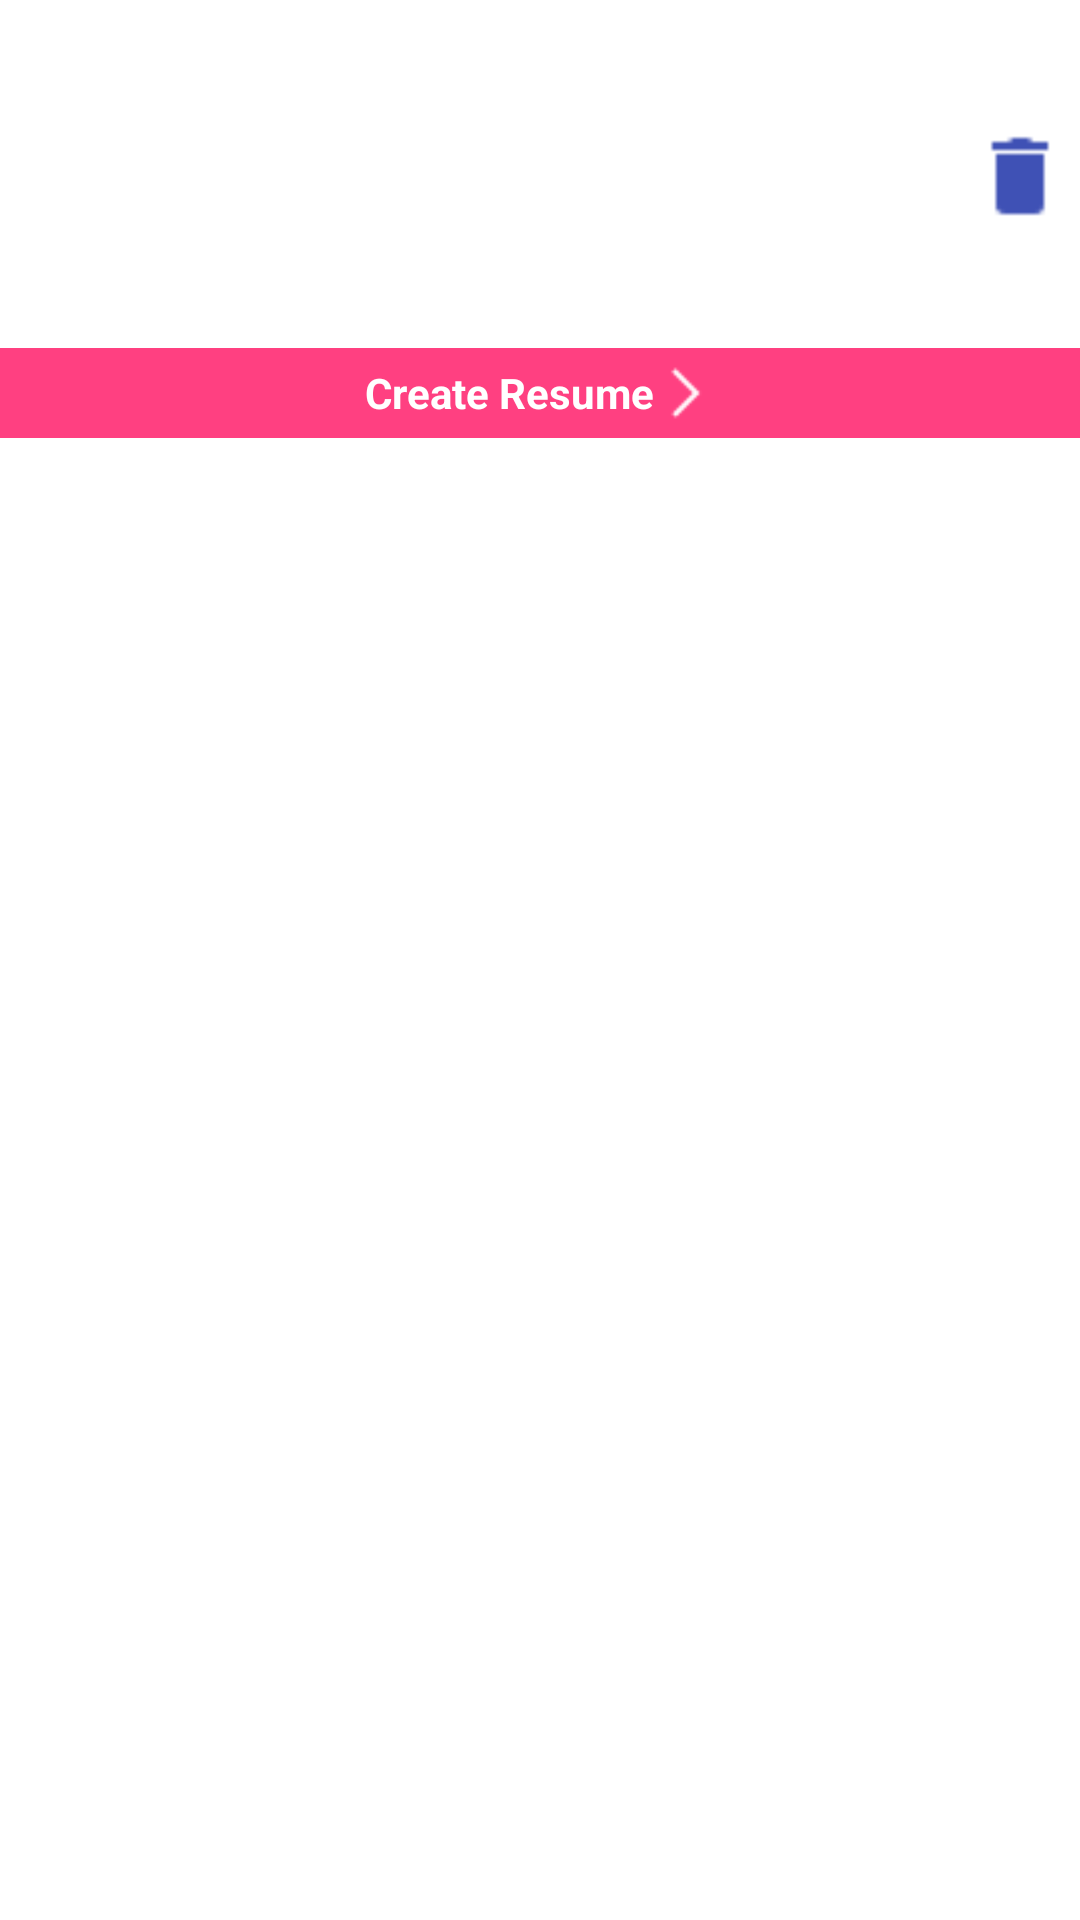

Icon bounding boxes for this 1080×1920 phone screenshot, format [x1,y1,x2,y2]:
rightarraow: [671,367,700,418]
trash: [991,137,1049,215]
